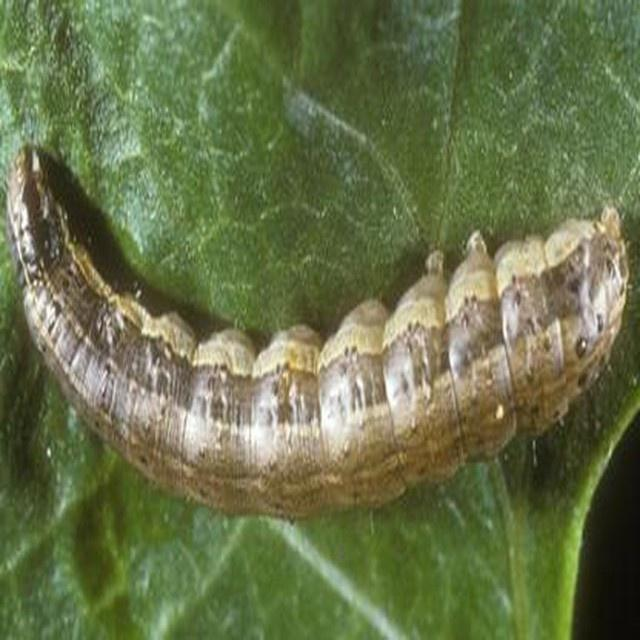gusano_cogollero: (0, 135, 640, 527)
